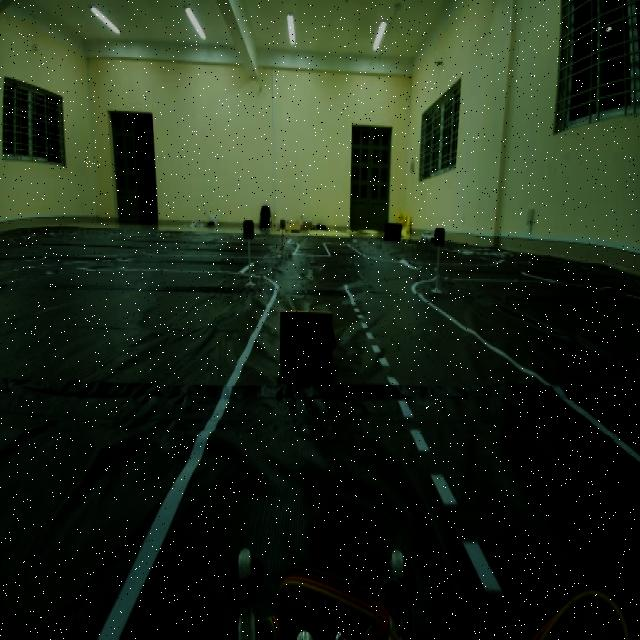roadblock: (273, 300, 343, 378)
